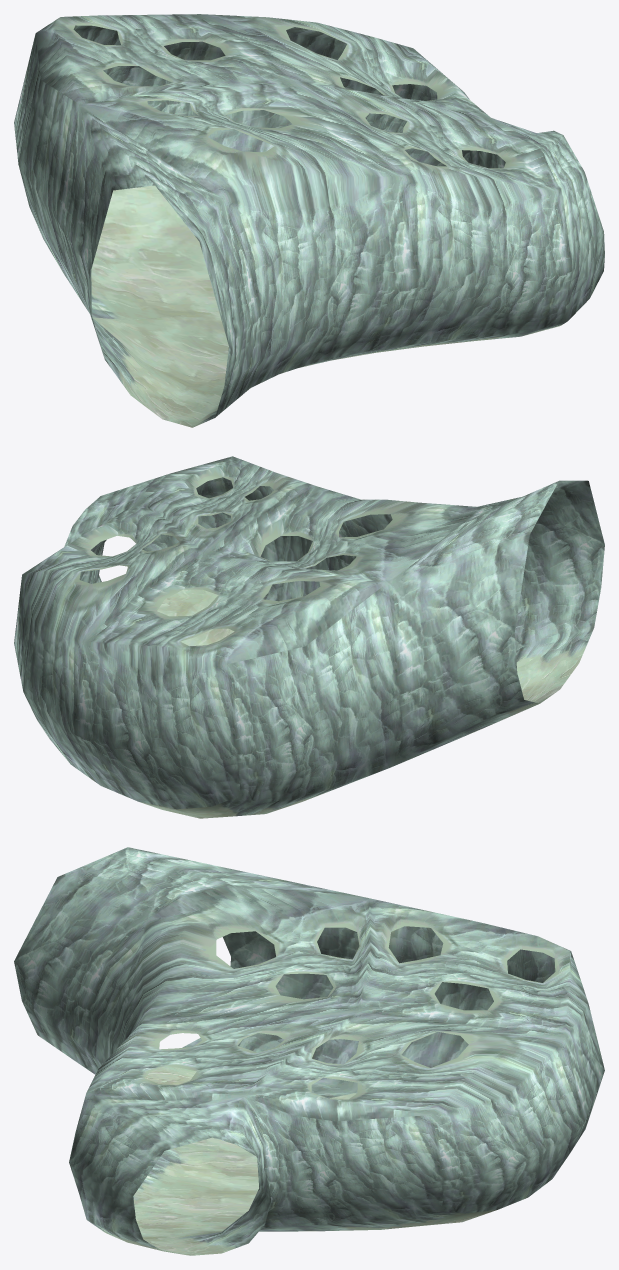
The model's file is TROLLHOLE02_PS-MAINCAVE03.fbx.
The picture shows the model from 3 angles, top to bottom: view 1: azimuth 30°, elevation 25°; view 2: azimuth 150°, elevation 25°; view 3: azimuth 270°, elevation 25°; orthographic projection. The views are drawn at different scales.
Parts seen in each view (by area): view 1: TROLLHOLE02_PS-MAINCAVE03; view 2: TROLLHOLE02_PS-MAINCAVE03; view 3: TROLLHOLE02_PS-MAINCAVE03.
Part boxes in pixels (x1,y1,x2,y2): TROLLHOLE02_PS-MAINCAVE03: (14, 14, 604, 427); TROLLHOLE02_PS-MAINCAVE03: (14, 456, 604, 818); TROLLHOLE02_PS-MAINCAVE03: (14, 847, 604, 1255).
Bounding box in the file's own units: 237091 × 126803 × 276699.
5 materials, 5 textured.
